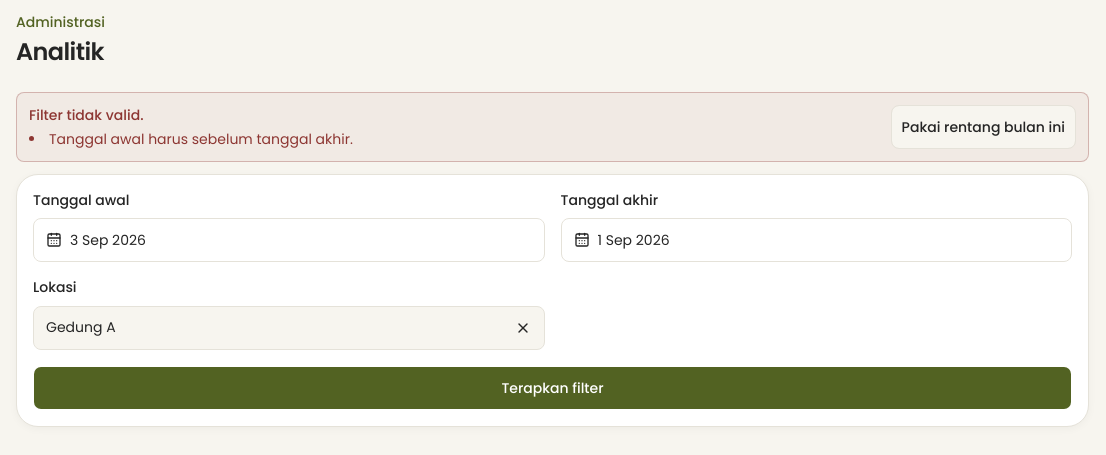
Test: AdminAnalyticsDashboard › keeps the selected location in the filter while date errors are shown
Expected: the button named "Hapus pilihan lokasi" is shown, [502,308,542,348]
Click the dropdown labelled "Lokasi". click: {"x": 289, "y": 328}
box: [33,306,544,350]
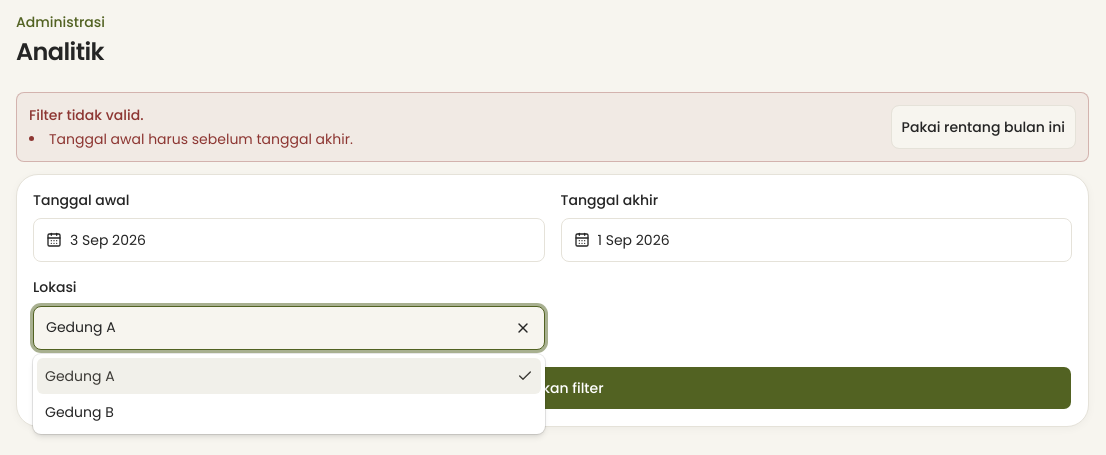
Result: the option "Gedung A" is shown at [37,358,541,394]
